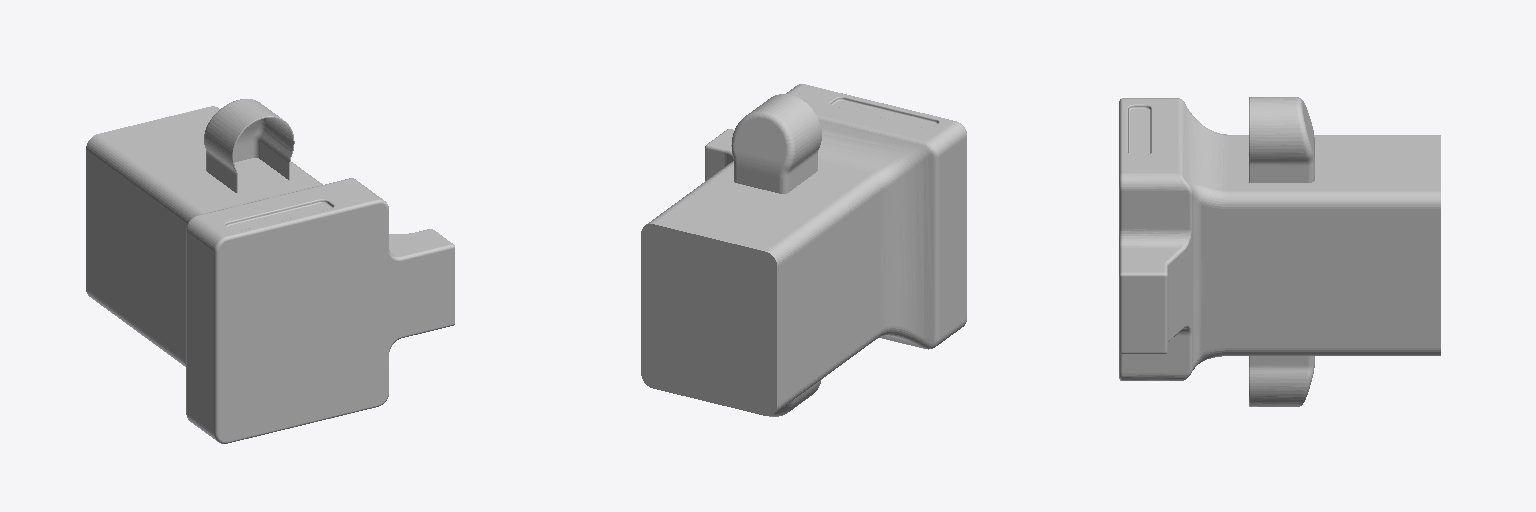
The model's file is torso_lift_dual_arm.obj.
3 views of the same model, side by side, from view 1: azimuth 30°, elevation 25°; view 2: azimuth 150°, elevation 25°; view 3: azimuth 270°, elevation 25° (orthographic).
Parts seen in each view (by area): view 1: <STL_BINARY>; view 2: <STL_BINARY>; view 3: <STL_BINARY>.
Boxes of the visible parts, x1=… form: <STL_BINARY>: x1=86, y1=99, x2=454, y2=443; <STL_BINARY>: x1=641, y1=84, x2=966, y2=416; <STL_BINARY>: x1=1119, y1=97, x2=1440, y2=406.
Bounding box in the file's own units: 0.401 × 0.484 × 0.464.